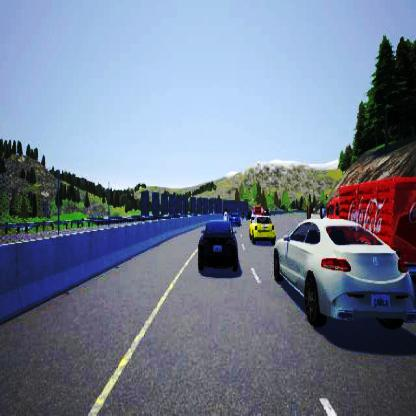vehicle: (271, 217, 415, 328), (319, 176, 415, 282), (198, 212, 240, 270), (247, 213, 278, 244)
